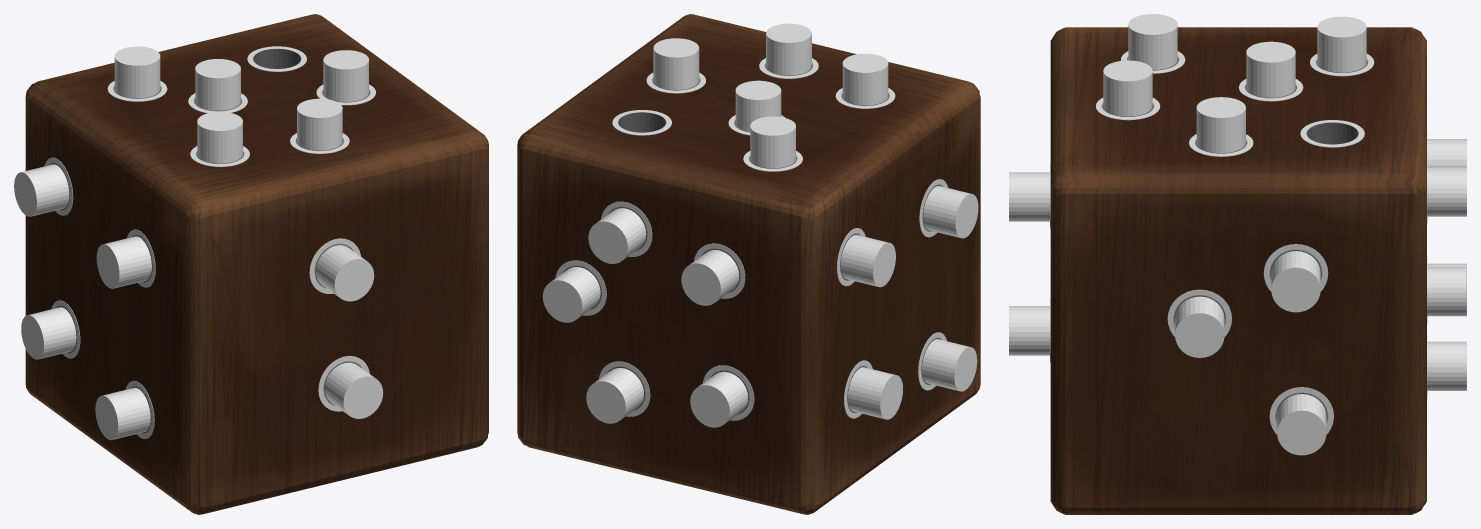
The model's file is dice_v3.gltf.
3 renders of one model, left to right at view 1: azimuth 30°, elevation 25°; view 2: azimuth 150°, elevation 25°; view 3: azimuth 270°, elevation 25°, orthographic. The views are drawn at different scales.
Parts seen in each view (by area): view 1: Cube, Cylinder.024, Cylinder.027, Cylinder.028, Cylinder.034, Cylinder.031, Cylinder.033, Cylinder.001, Cylinder.011, Cylinder.009, Cylinder.005, Cylinder.006 (+3 smaller); view 2: Cube, Cylinder.020, Cylinder.018, Cylinder.016, Cylinder.023, Cylinder.015, Cylinder.034, Cylinder.028, Cylinder.031, Cylinder.033, Cylinder.009, Cylinder.005 (+9 smaller); view 3: Cube, Cylinder.036, Cylinder.040, Cylinder.039, Cylinder.011, Cylinder.001, Cylinder.006, Cylinder.005, Cylinder.009, Cylinder.024, Cylinder.027, Cylinder.015 (+7 smaller).
Boxes of the visible parts, x1=… form: Cube: x1=25, y1=14, x2=488, y2=514; Cylinder.024: x1=315, y1=245, x2=374, y2=301; Cylinder.027: x1=324, y1=362, x2=383, y2=418; Cylinder.028: x1=21, y1=307, x2=76, y2=359; Cylinder.034: x1=96, y1=236, x2=151, y2=288; Cylinder.031: x1=95, y1=387, x2=150, y2=440; Cylinder.033: x1=14, y1=164, x2=69, y2=216; Cylinder.001: x1=114, y1=46, x2=160, y2=98; Cylinder.011: x1=297, y1=98, x2=342, y2=150; Cylinder.009: x1=197, y1=111, x2=242, y2=163; Cylinder.005: x1=323, y1=50, x2=368, y2=101; Cylinder.006: x1=195, y1=59, x2=240, y2=110; Cube: x1=517, y1=14, x2=980, y2=514; Cylinder.020: x1=588, y1=208, x2=646, y2=263; Cylinder.018: x1=542, y1=267, x2=600, y2=322; Cylinder.016: x1=690, y1=371, x2=747, y2=427; Cylinder.023: x1=681, y1=250, x2=739, y2=305; Cylinder.015: x1=586, y1=368, x2=643, y2=423; Cylinder.034: x1=923, y1=186, x2=978, y2=238; Cylinder.028: x1=847, y1=367, x2=902, y2=419; Cylinder.031: x1=922, y1=339, x2=977, y2=391; Cylinder.033: x1=840, y1=234, x2=895, y2=287; Cylinder.009: x1=842, y1=53, x2=888, y2=105; Cylinder.005: x1=653, y1=38, x2=699, y2=89; Cube: x1=1050, y1=27, x2=1426, y2=514; Cylinder.036: x1=1277, y1=394, x2=1326, y2=455; Cylinder.040: x1=1175, y1=296, x2=1224, y2=357; Cylinder.039: x1=1271, y1=251, x2=1320, y2=312; Cylinder.011: x1=1103, y1=60, x2=1152, y2=116; Cylinder.001: x1=1317, y1=16, x2=1366, y2=72; Cylinder.006: x1=1246, y1=41, x2=1295, y2=97; Cylinder.005: x1=1196, y1=97, x2=1245, y2=153; Cylinder.009: x1=1128, y1=14, x2=1177, y2=69; Cylinder.024: x1=1009, y1=172, x2=1049, y2=221; Cylinder.027: x1=1009, y1=306, x2=1049, y2=355; Cylinder.015: x1=1427, y1=341, x2=1466, y2=390.
Bounding box in the file's own units: 2.43 × 2.42 × 2.43.
Materials: 2 (2 with a texture image).
